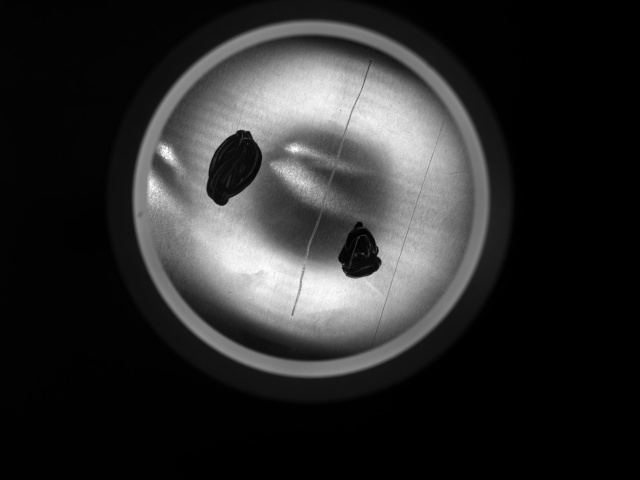ca_shang: (287, 51, 372, 322), (368, 112, 444, 349)
zang_wu: (205, 128, 264, 207), (336, 221, 385, 281)
